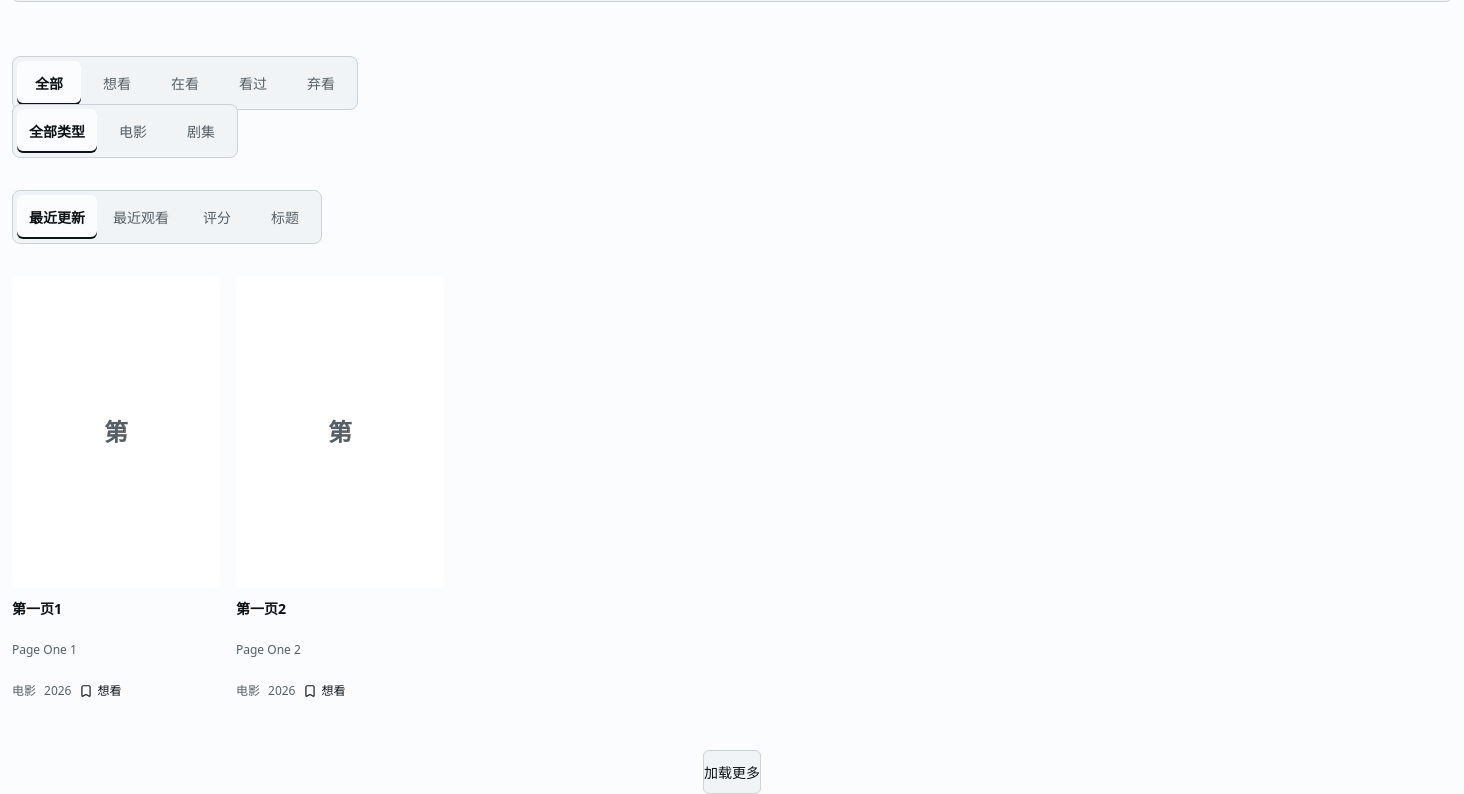
Scenario: LibraryPage › loads additional library pages with the returned cursor and keeps the cumulative count
(page scrolled)
Expected: the text "Page One 1" is shown, [12,641,77,658]
Step 1. Click the button "加载更多" → (732, 772), box [703,750,761,793]
(page scrolled)
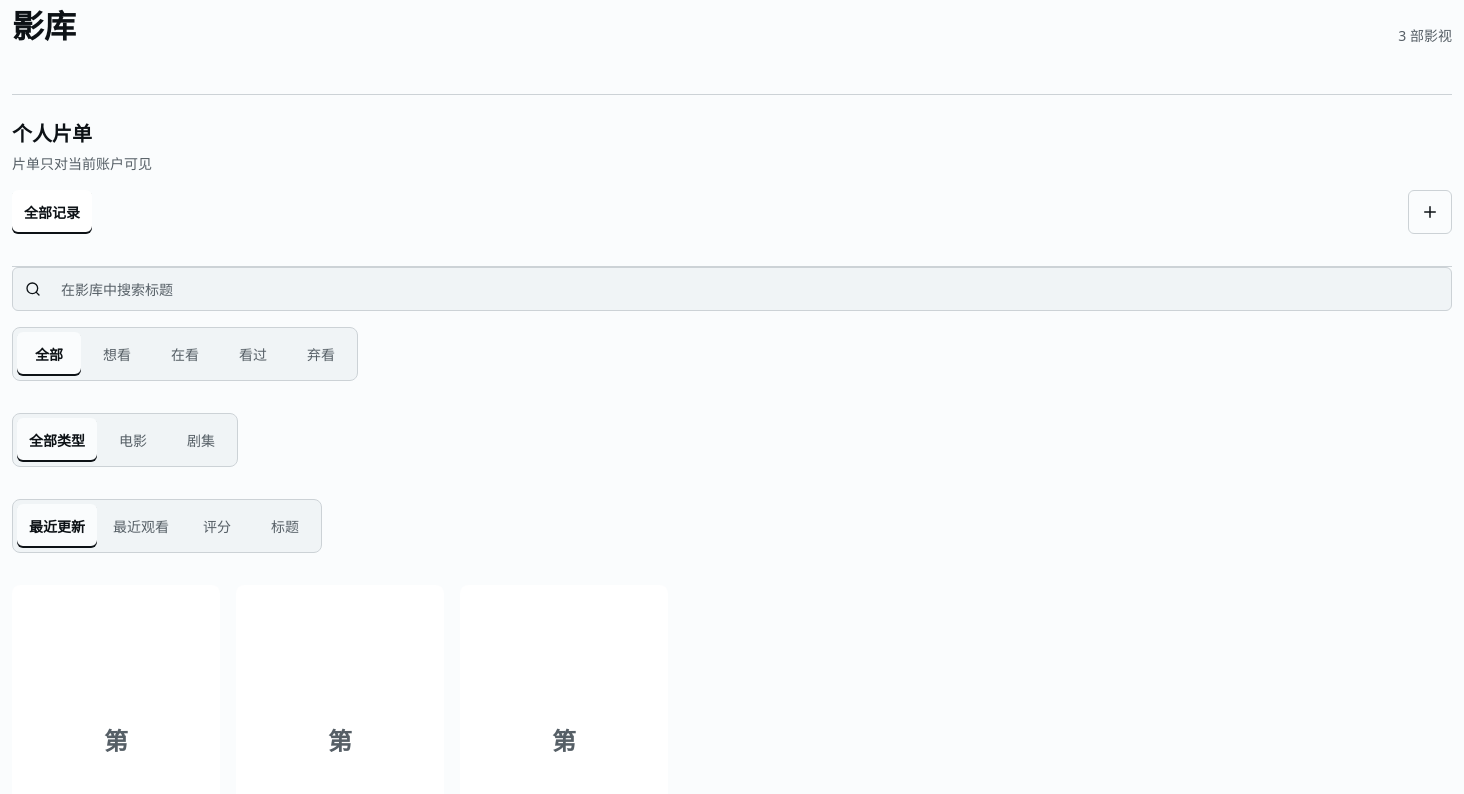
Expected: the text "3 部影视" is shown, [1398,25,1452,46]
Expected: the button "加载更多" is gone
